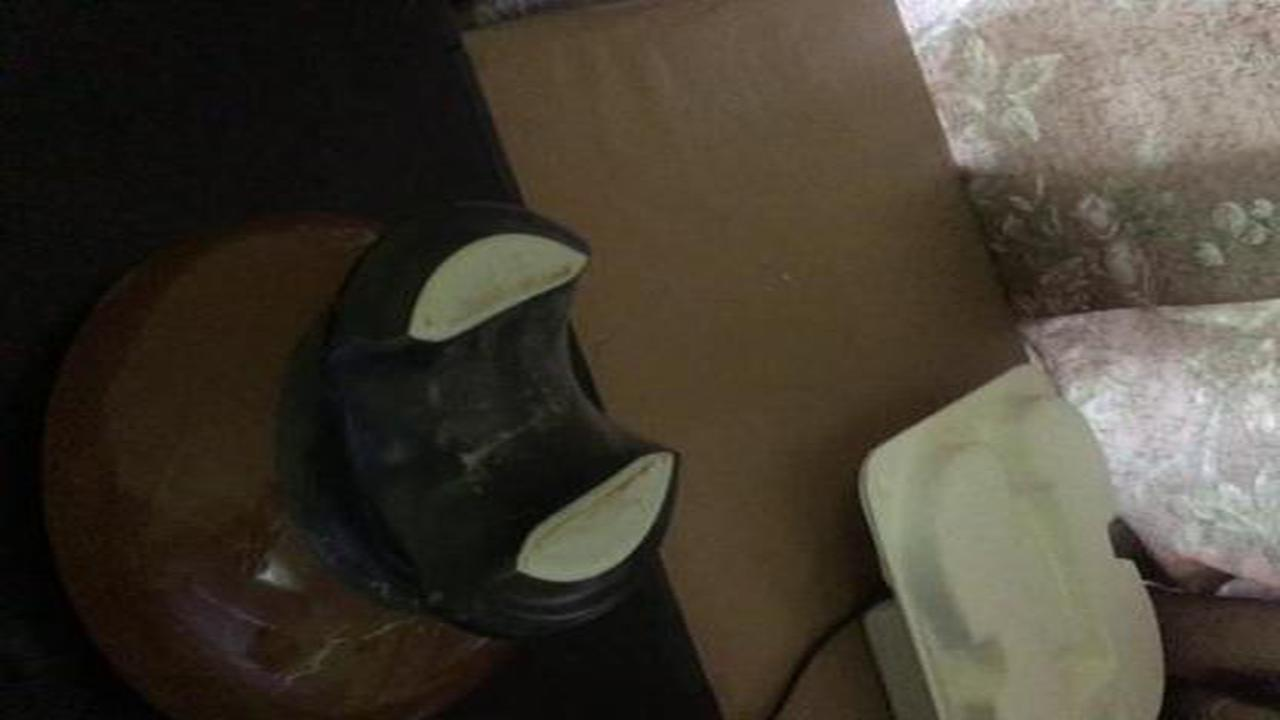insulator_pin: (24, 205, 711, 710)
